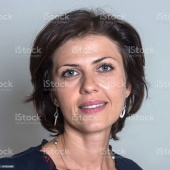Forehead: (47, 36, 120, 64)
